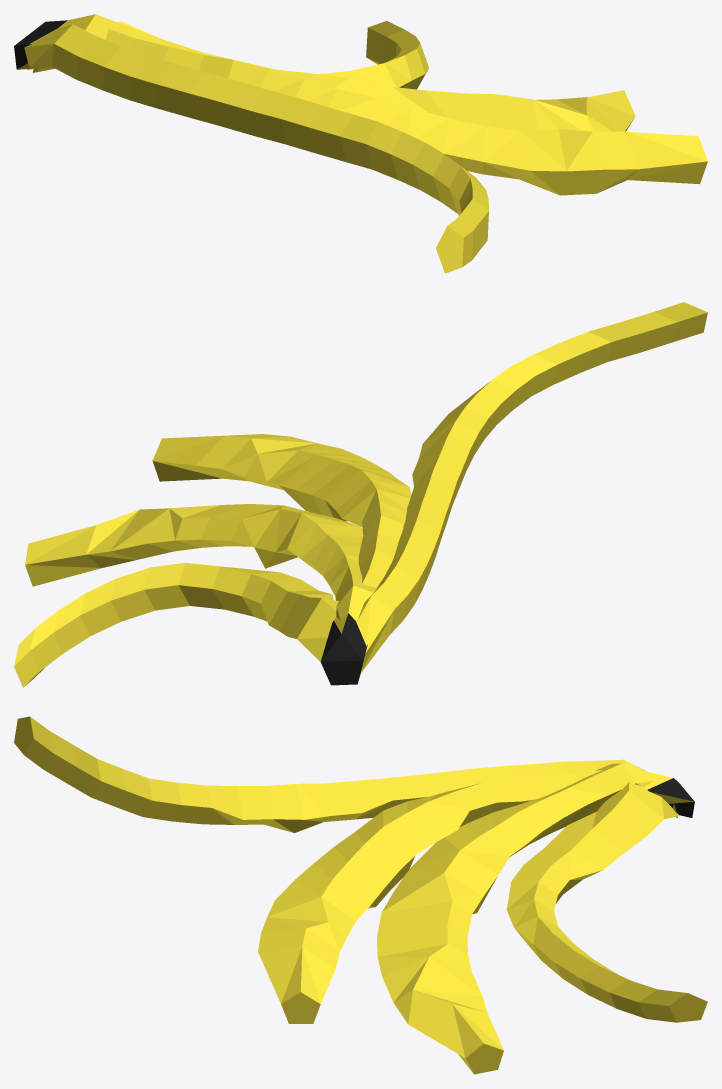
Rendered from bananaPeel.fbx.
3 renders of one model, top to bottom at view 1: azimuth 30°, elevation 25°; view 2: azimuth 150°, elevation 25°; view 3: azimuth 270°, elevation 25°, orthographic. The views are drawn at different scales.
Parts seen in each view (by area): view 1: group_636536619; view 2: group_636536619; view 3: group_636536619.
Boxes of the visible parts, x1=… form: group_636536619: x1=14, y1=14, x2=707, y2=273; group_636536619: x1=14, y1=302, x2=707, y2=687; group_636536619: x1=14, y1=716, x2=707, y2=1074.
Bounding box in the file's own units: 78.26 × 33.22 × 116.
